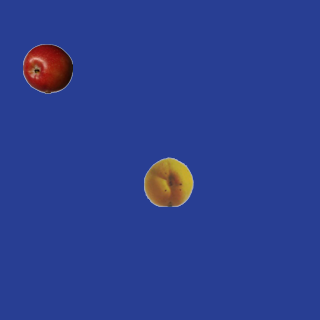Apple Braeburn: (22, 43, 72, 93)
Peach 2: (143, 156, 193, 206)
